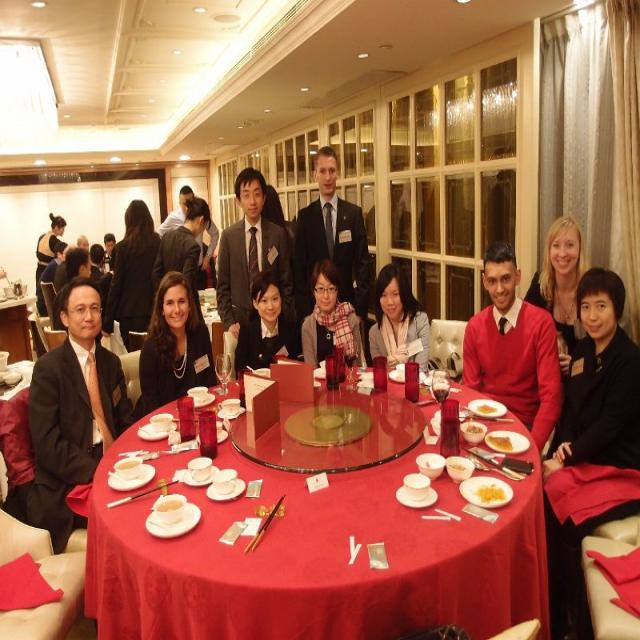body: (26, 274, 140, 558), (461, 239, 564, 459), (543, 268, 639, 480), (291, 145, 372, 324), (214, 166, 296, 340), (523, 214, 593, 390), (138, 269, 220, 416), (100, 198, 163, 356), (150, 194, 214, 328), (232, 268, 301, 382), (366, 260, 432, 374), (154, 184, 222, 291), (302, 256, 366, 368), (362, 157, 422, 257), (483, 144, 520, 254), (34, 212, 68, 318), (37, 241, 70, 317), (64, 232, 116, 273), (263, 183, 288, 230)
